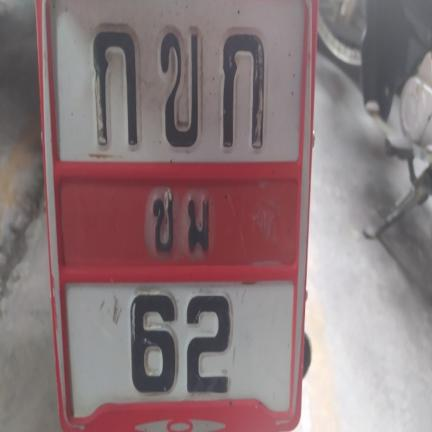2: (186, 286, 236, 398)
6: (129, 287, 181, 398)
A01: (211, 16, 271, 155), (87, 20, 145, 152)
A02: (153, 19, 207, 152)
CMI: (138, 181, 220, 260)
